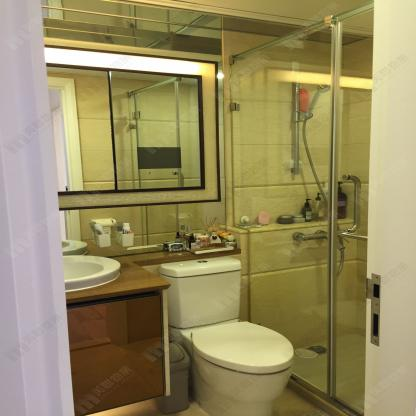Toilet: (158, 256, 291, 415)
Toilet Sink: (62, 253, 122, 290)
Water Cubicle: (232, 3, 373, 416)
